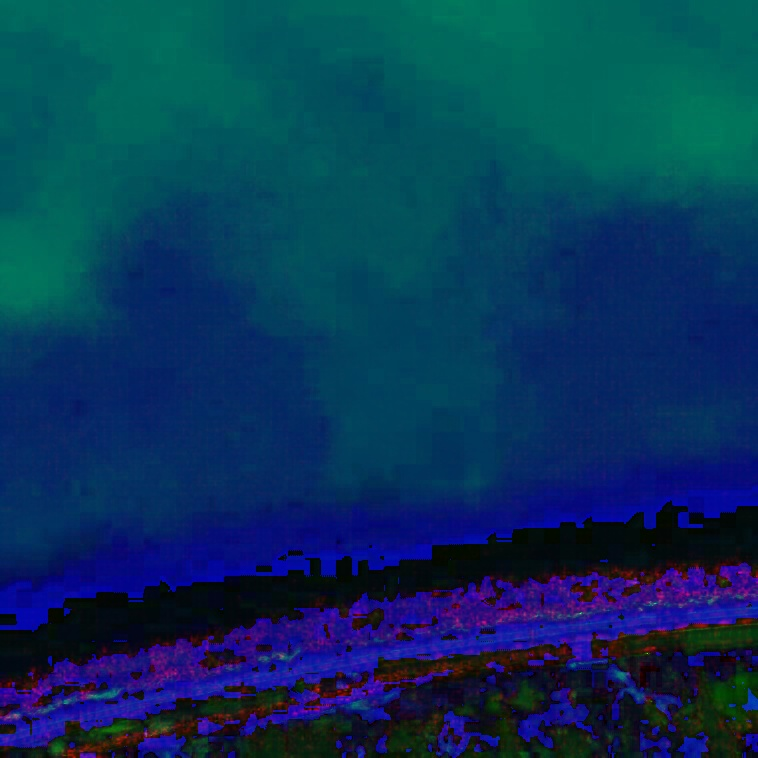rip_current: (189, 150, 571, 529)
